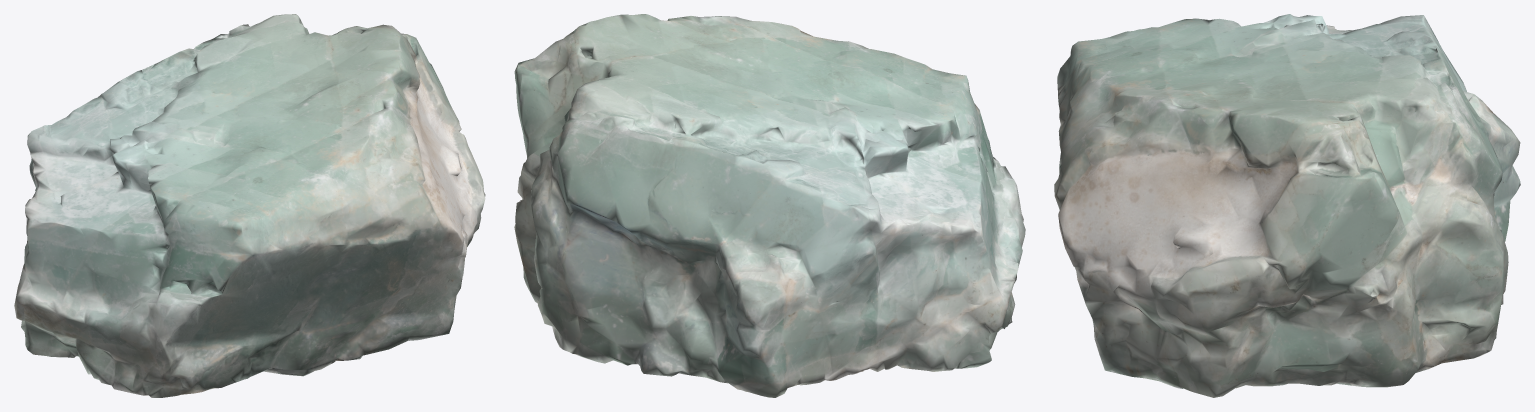
File: SM_xbcpcdk_tier_2.gltf
3 renders of one model, left to right at view 1: azimuth 30°, elevation 25°; view 2: azimuth 150°, elevation 25°; view 3: azimuth 270°, elevation 25°, orthographic. The views are drawn at different scales.
Parts seen in each view (by area): view 1: xbcpcdk_LOD2_TIER2_000; view 2: xbcpcdk_LOD2_TIER2_000; view 3: xbcpcdk_LOD2_TIER2_000.
Boxes of the visible parts, x1=… form: xbcpcdk_LOD2_TIER2_000: x1=14, y1=14, x2=485, y2=397; xbcpcdk_LOD2_TIER2_000: x1=514, y1=14, x2=1025, y2=397; xbcpcdk_LOD2_TIER2_000: x1=1054, y1=14, x2=1520, y2=397.
Bounding box in the file's own units: 0.1407 × 0.0742 × 0.1108.
Materials: 1 (1 with a texture image).
